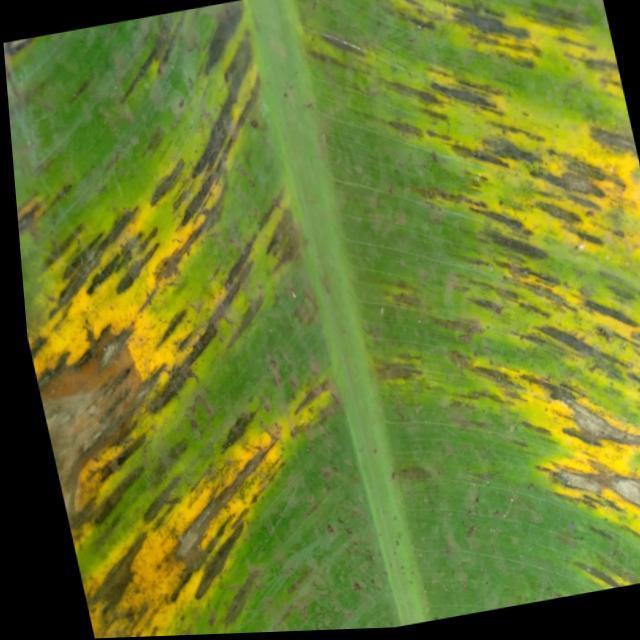Early_rust: (13, 0, 640, 632)
